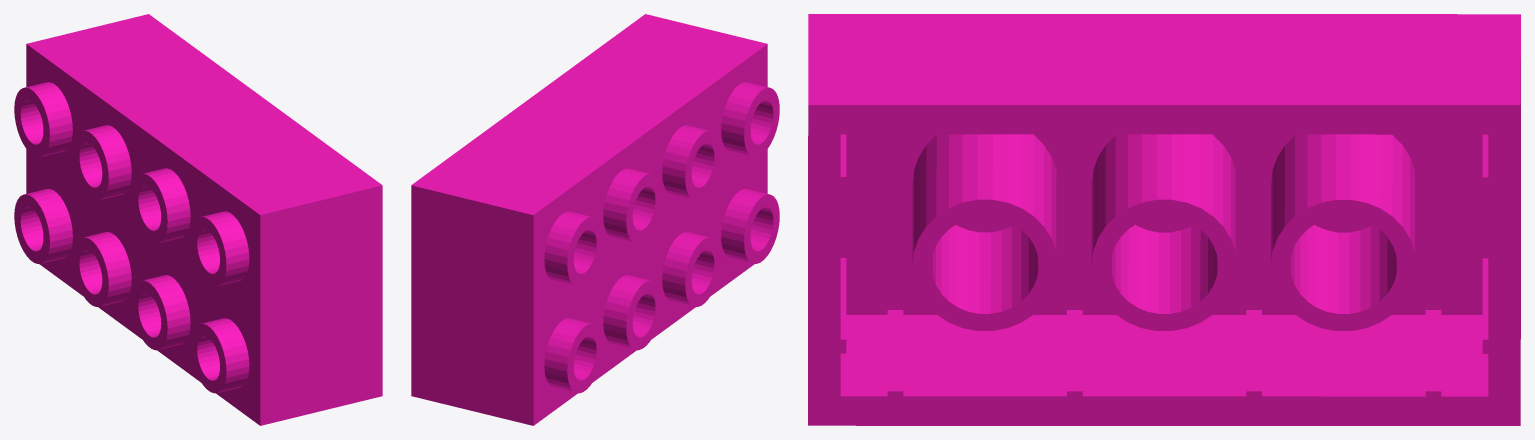
The model's file is duplo2_5.dae.
3 views of the same model, side by side, from view 1: azimuth 30°, elevation 25°; view 2: azimuth 150°, elevation 25°; view 3: azimuth 270°, elevation 25° (orthographic). The views are drawn at different scales.
Parts seen in each view (by area): view 1: duplo2_019; view 2: duplo2_019; view 3: duplo2_019.
Boxes of the visible parts, x1=… form: duplo2_019: x1=14, y1=14, x2=382, y2=425; duplo2_019: x1=411, y1=14, x2=779, y2=425; duplo2_019: x1=808, y1=14, x2=1520, y2=425.
Bounding box in the file's own units: 0.0418 × 0.1164 × 0.0578.
